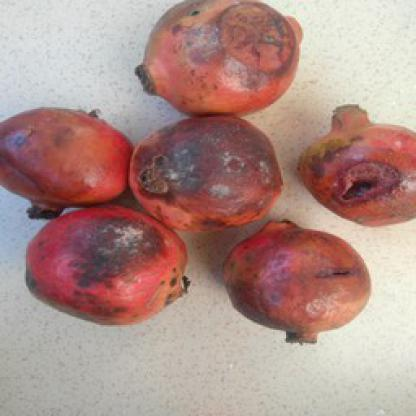pomegranate_rotten: (21, 199, 193, 326), (128, 0, 306, 116), (218, 214, 374, 346), (127, 116, 283, 233), (294, 99, 415, 228), (0, 102, 132, 220)
